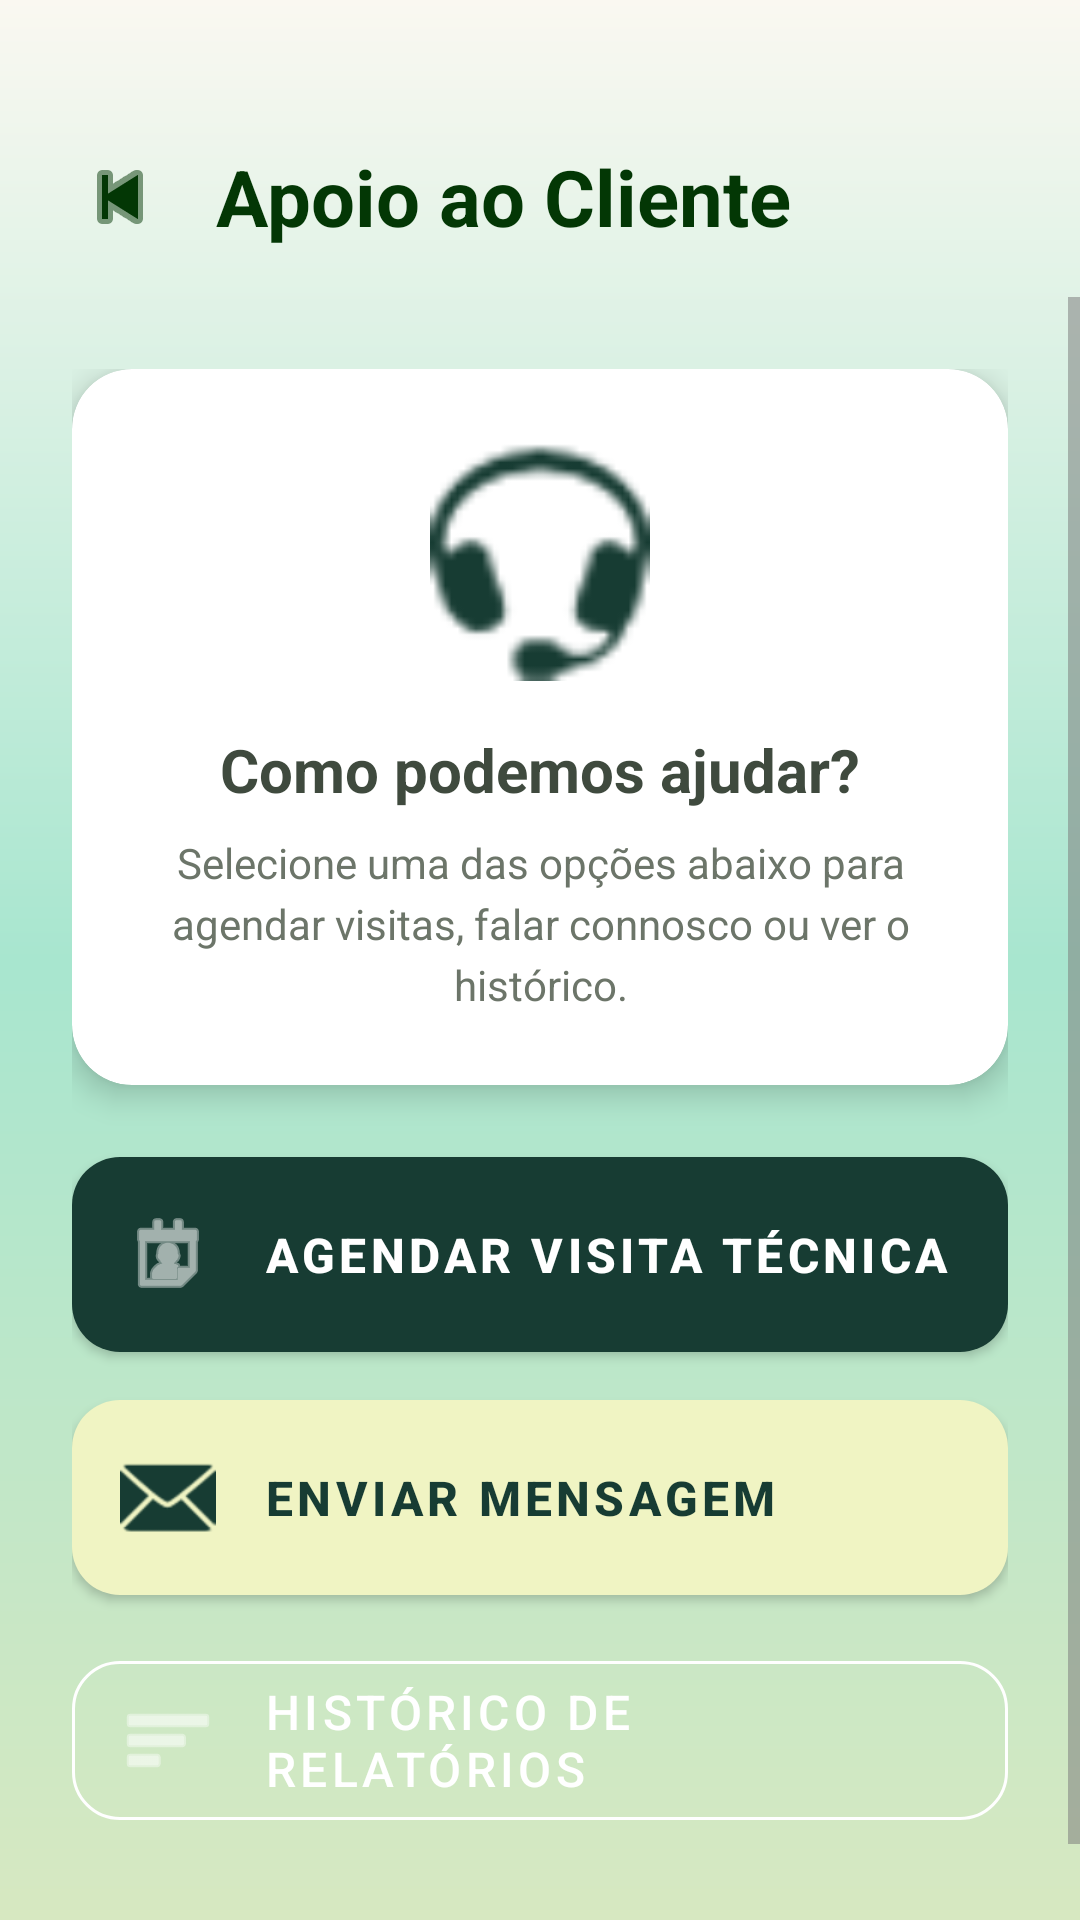

Named icons in this screenshot (1080*1920) and their centers, point (x, y):
headset: point (540, 563)
Voltar: point (120, 197)
